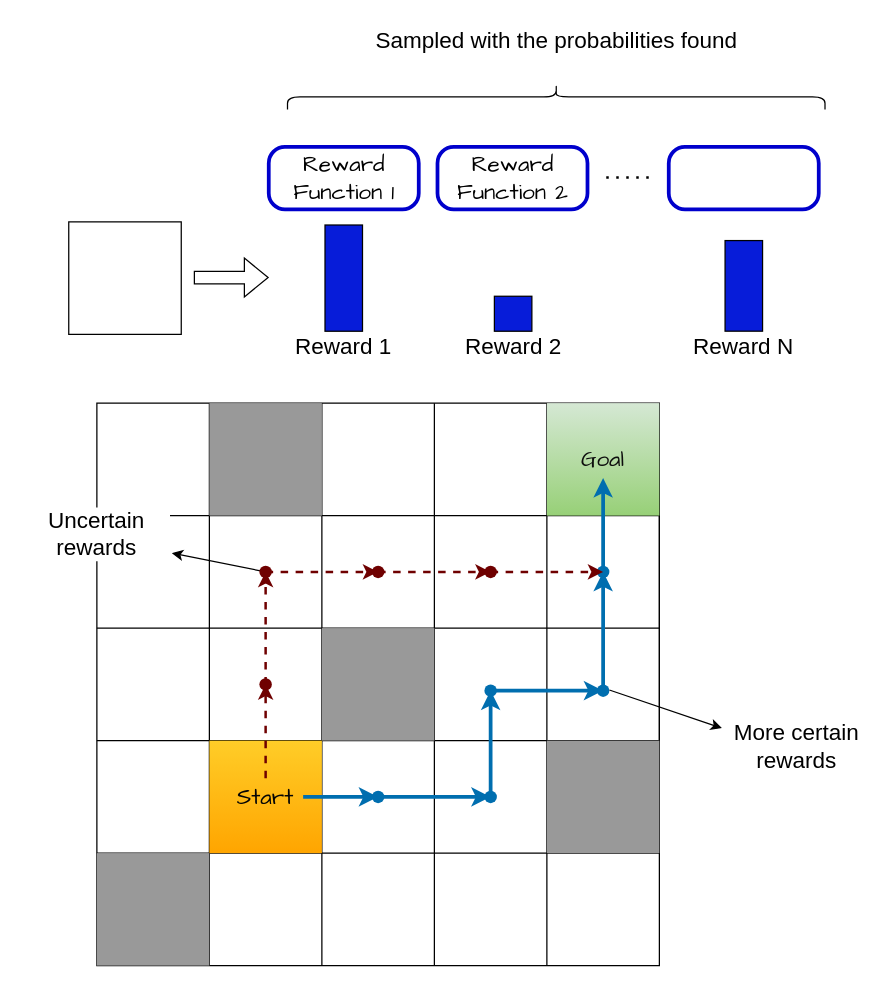
The diagram is 893 pixels wide and 988 high, and some of its shapes have lost their labels. The shapes that lost their labels are listed below. From the top down, each one's box as (x1, y1, x2, y2) in pixels, then its label:
(666, 144, 820, 211): Reward Function N
(68, 221, 181, 334): Features (f 1 , f 2 , ..., f n )
